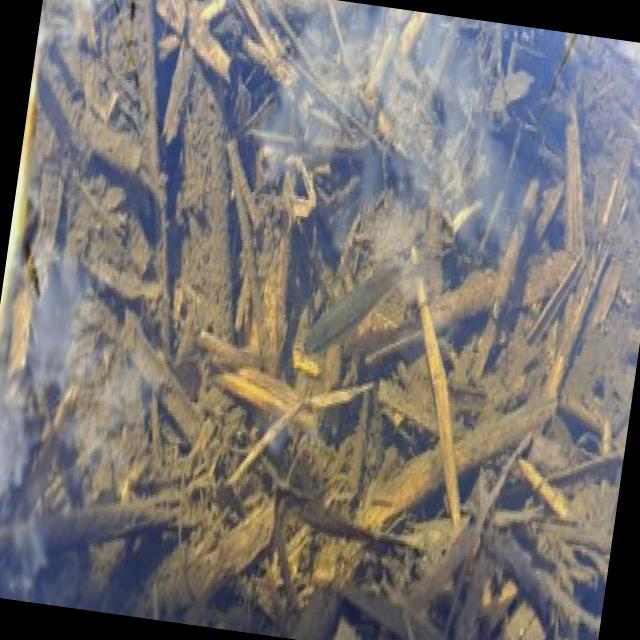Cakil Baligi: (296, 233, 432, 378)
